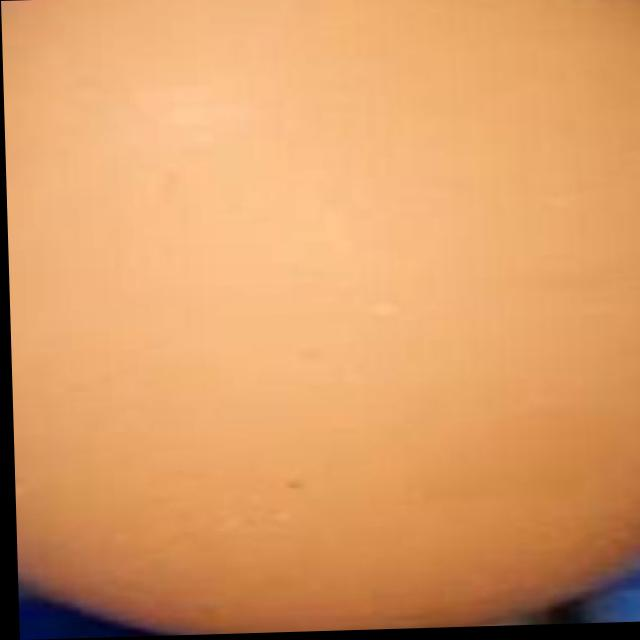fresh: (0, 0, 640, 638)
